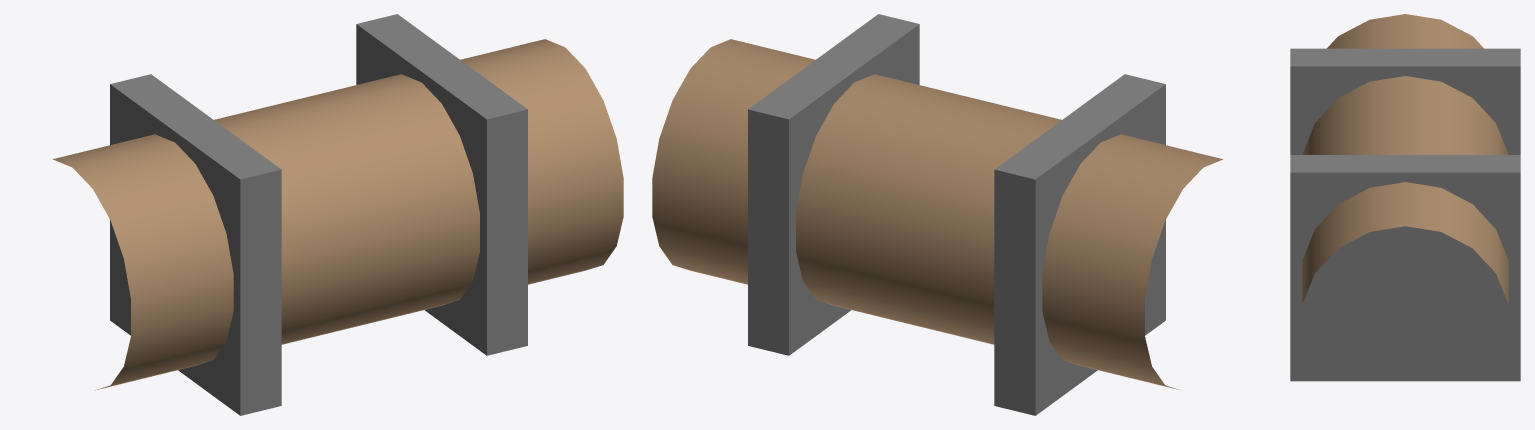
The model's file is tool-roll.glb.
3 views of the same model, side by side, from view 1: azimuth 30°, elevation 25°; view 2: azimuth 150°, elevation 25°; view 3: azimuth 270°, elevation 25° (orthographic). The views are drawn at different scales.
Parts seen in each view (by area): view 1: tool-roll; view 2: tool-roll; view 3: tool-roll.
Boxes of the visible parts, bbox=[...] form: tool-roll: bbox=[53, 14, 623, 415]; tool-roll: bbox=[652, 14, 1222, 415]; tool-roll: bbox=[1290, 14, 1520, 381].
Size of the model in its own units: 0.48 by 0.22 by 0.22.
